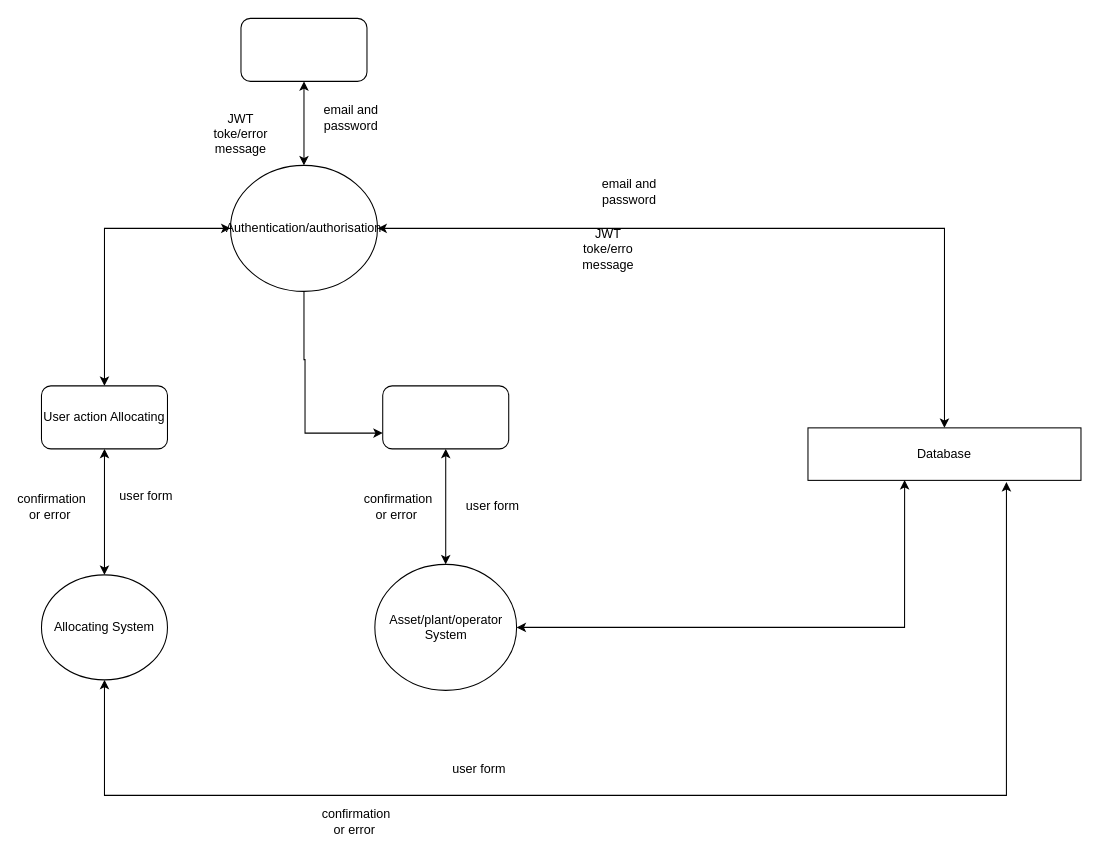
Image size: 1099x856. Some labels were removed from this diagram. Here are the shapes that lost their labels. From the top down, the centre of each, then its label:
At pixel 303 49: "login".
At pixel 445 417: "User action creating/editing asset/plant/operator".
